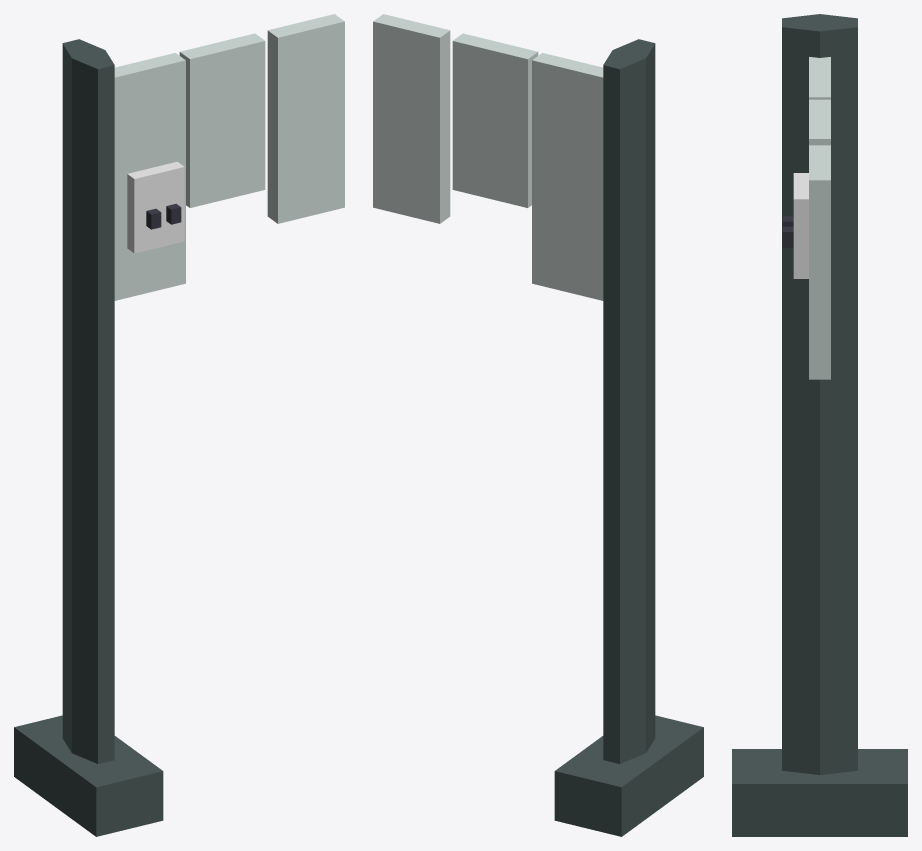
Rendered from env_r14_tattered_flag.glb.
3 renders of one model, left to right at view 1: azimuth 30°, elevation 25°; view 2: azimuth 150°, elevation 25°; view 3: azimuth 270°, elevation 25°, orthographic. The views are drawn at different scales.
Visible parts, largest first — view 1: env_r14_tattered_flag; view 2: env_r14_tattered_flag; view 3: env_r14_tattered_flag.
Part boxes in pixels (x1,y1,x2,y2): env_r14_tattered_flag: (14,14,344,836); env_r14_tattered_flag: (373,14,703,836); env_r14_tattered_flag: (732,14,907,836).
Bounding box in the file's own units: 1.2 × 3 × 0.6.
Materials: 1 (1 with a texture image).
